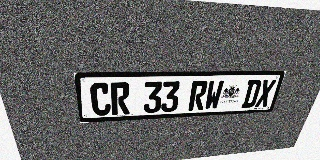3: (143, 81, 162, 113), (161, 81, 180, 112)
C: (89, 82, 111, 116)
D: (241, 79, 263, 108)
R: (110, 82, 130, 115), (188, 81, 208, 111)
W: (203, 80, 224, 110)
X: (254, 79, 277, 107)
